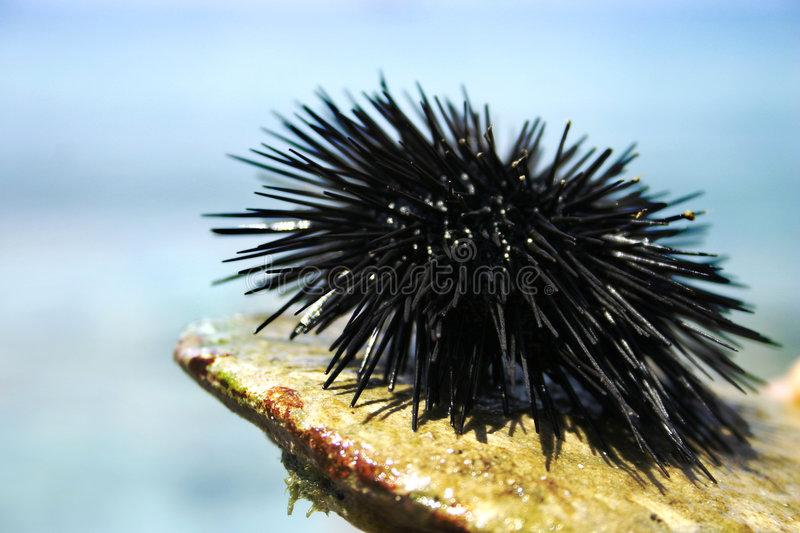urchin: (203, 66, 779, 486)
